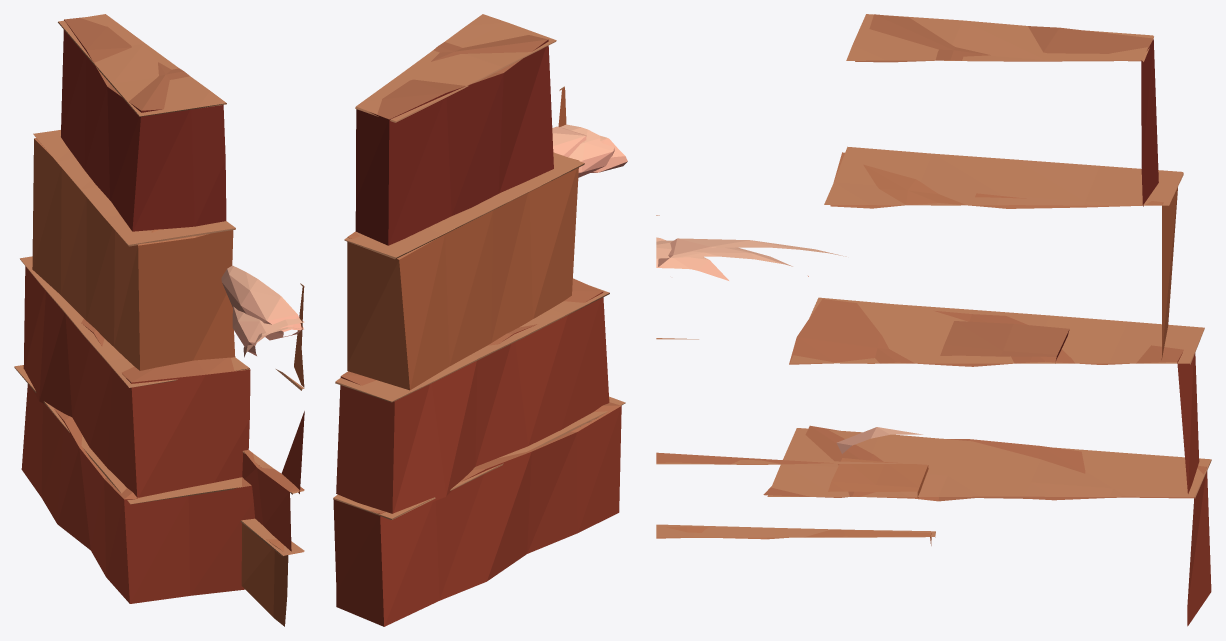
The picture shows the model from 3 angles, left to right: view 1: azimuth 30°, elevation 25°; view 2: azimuth 150°, elevation 25°; view 3: azimuth 270°, elevation 25°; orthographic projection. The views are drawn at different scales.
Visible parts, largest first — view 1: scene.0.2 (×2); view 2: scene.0.2 (×2); view 3: scene.0.2 (×2).
Part boxes in pixels (<box>): scene.0.2 (×2): <box>14,14,304,626</box>; scene.0.2 (×2): <box>333,14,627,626</box>; scene.0.2 (×2): <box>656,14,1211,626</box>.
Bounding box in the file's own units: 17.63 × 66.67 × 59.
